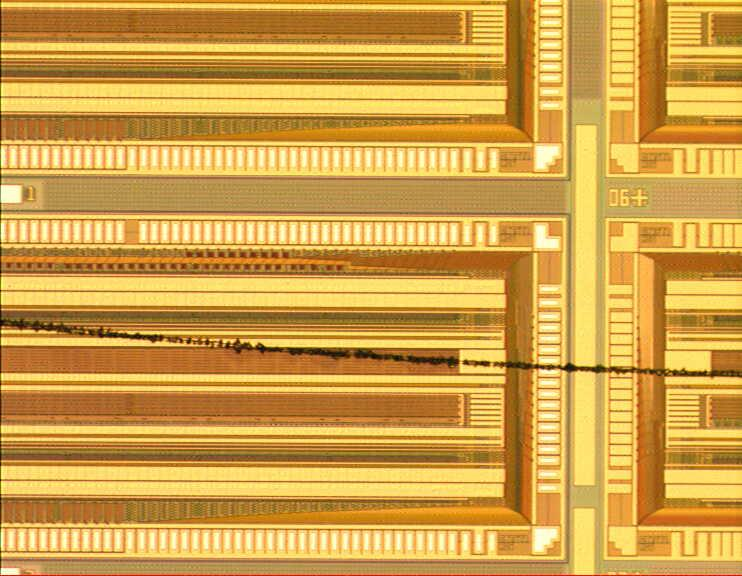SCRATCH: (1, 312, 742, 383)
